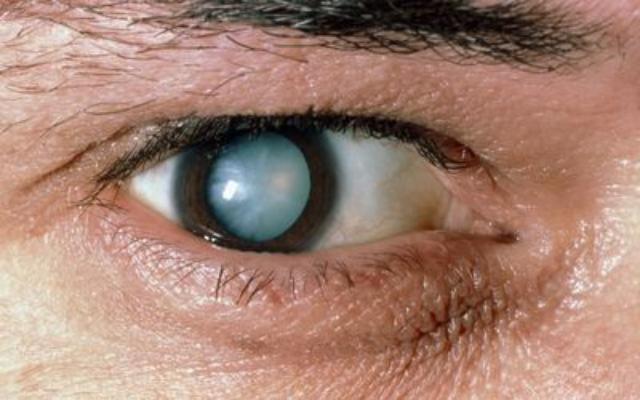eye: (174, 133, 340, 251)
